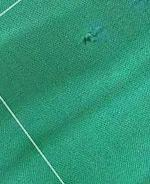knot: (80, 27, 103, 50)
